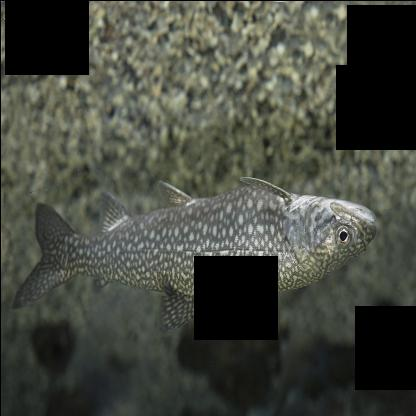fish: (13, 174, 378, 334)
